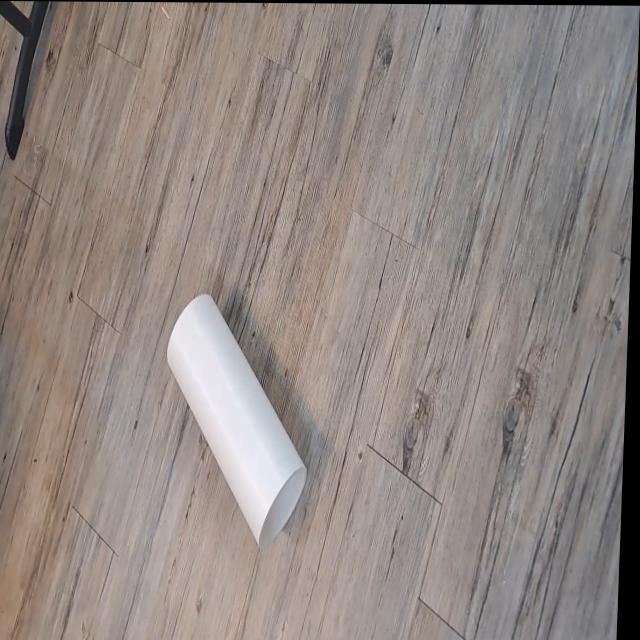CORAL: (150, 280, 326, 547)
